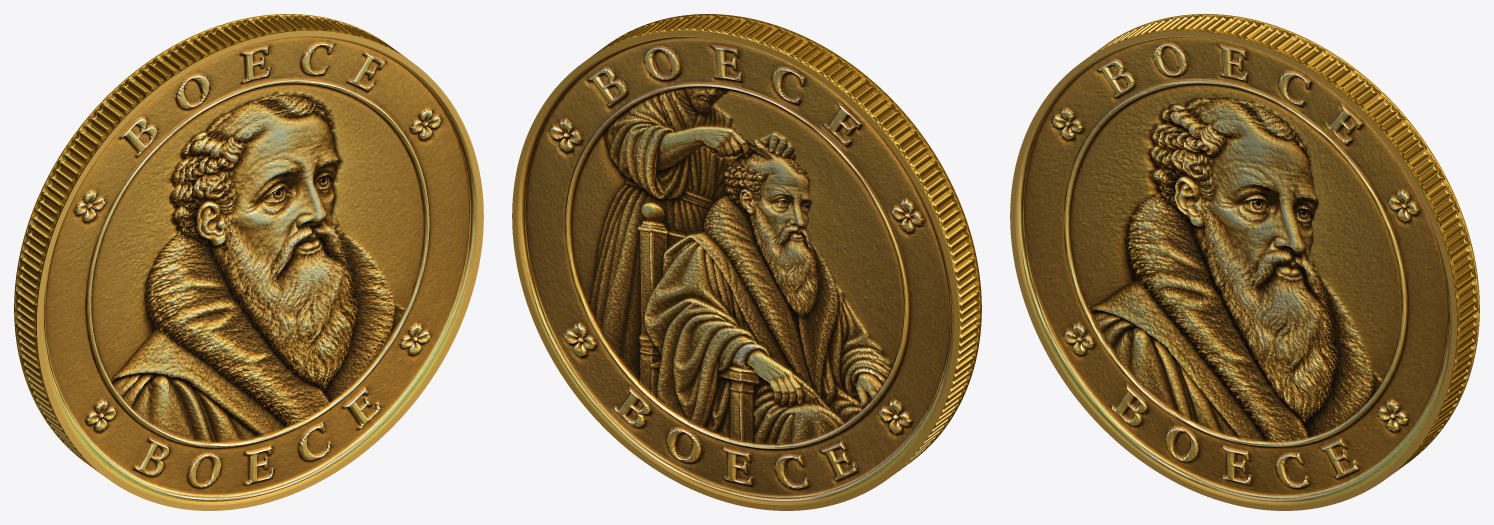
Rendered from boece_coin.glb.
3 renders of one model, left to right at view 1: azimuth 30°, elevation 25°; view 2: azimuth 150°, elevation 25°; view 3: azimuth 330°, elevation 25°, orthographic.
Visible parts, largest first — view 1: front, edge; view 2: back, edge; view 3: front, edge.
Boxes of the visible parts, box(x1,y1,x2,y2) form: front: box(37, 30, 483, 510); edge: box(14, 14, 407, 474); back: box(512, 30, 958, 510); edge: box(588, 14, 981, 474); front: box(1010, 30, 1456, 510); edge: box(1086, 14, 1479, 474).
Size of the model in its own units: 2 by 2 by 0.1761.
Materials: 3 (3 with a texture image).
